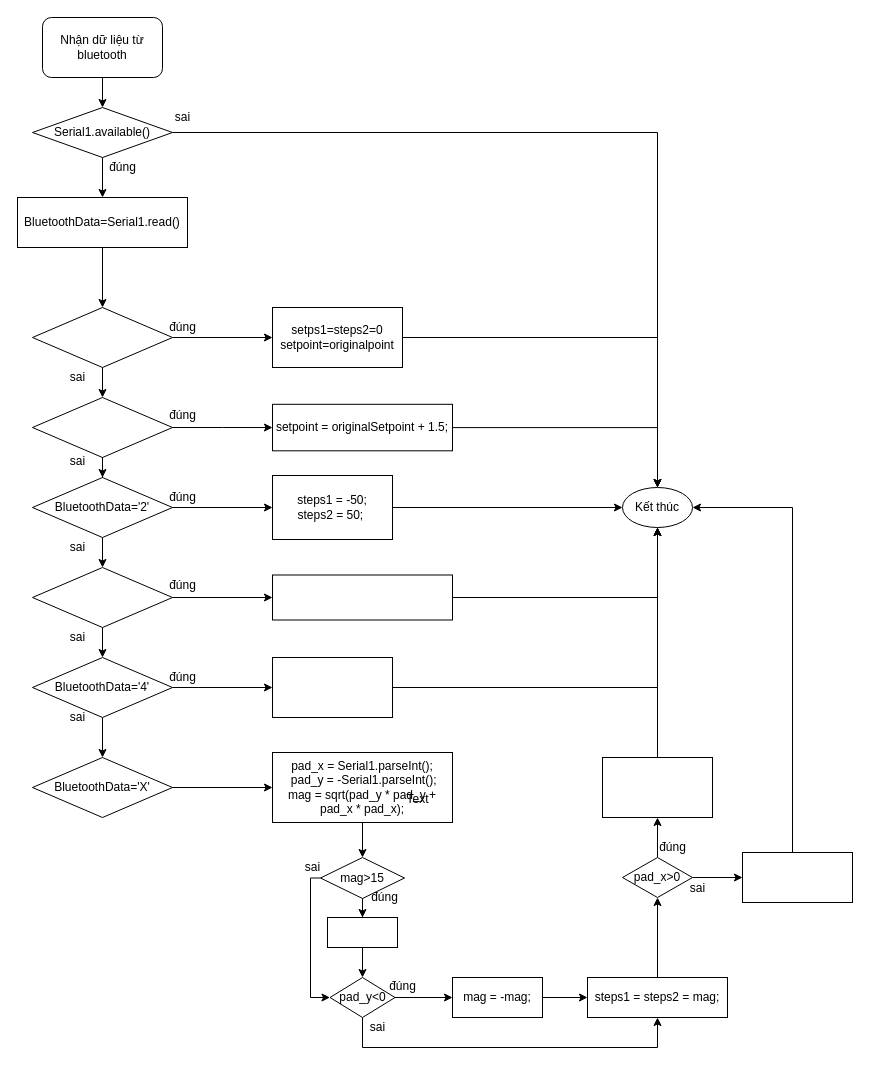
The diagram is 870 pixels wide and 1073 high, and some of its shapes have lost their labels. The centre of each missing label's shape, as x and y in pixels:
BluetoothData='0': the point at 102,337
BluetoothData='1': the point at 102,427
BluetoothData='3': the point at 102,597
mag=15: the point at 362,932
setpoint = originalSetpoint - 1.5;: the point at 362,597
steps1 = 50; steps2 = -50;: the point at 332,687
steps1 = steps1 + mag*pad_x/5.0;: the point at 797,877
steps2 = steps2 - mag*pad_x/5.0;: the point at 657,787
